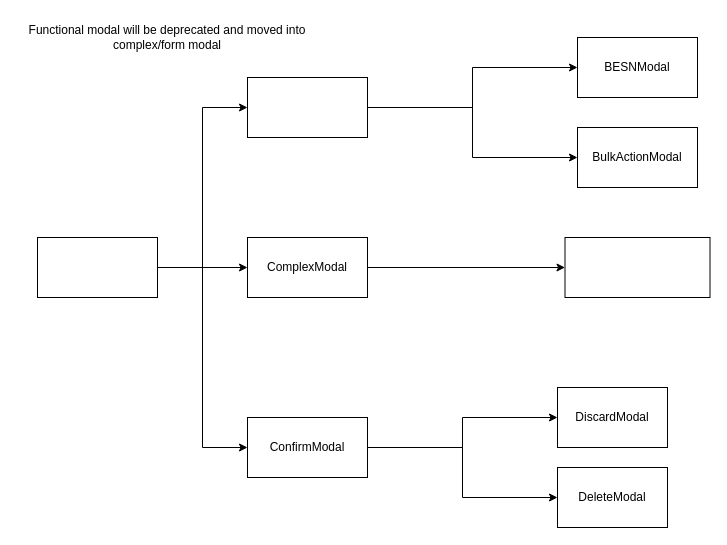
Image size: 727x545. Some labels were removed from this diagram. The shapes that lost their labels are listed below. From the top down, each one's centre as x and y in pixels, then its label:
At pixel 307 107: "FormModal".
At pixel 97 267: "BaseModal".
At pixel 637 267: "PreviewPurchase OrderModal".
